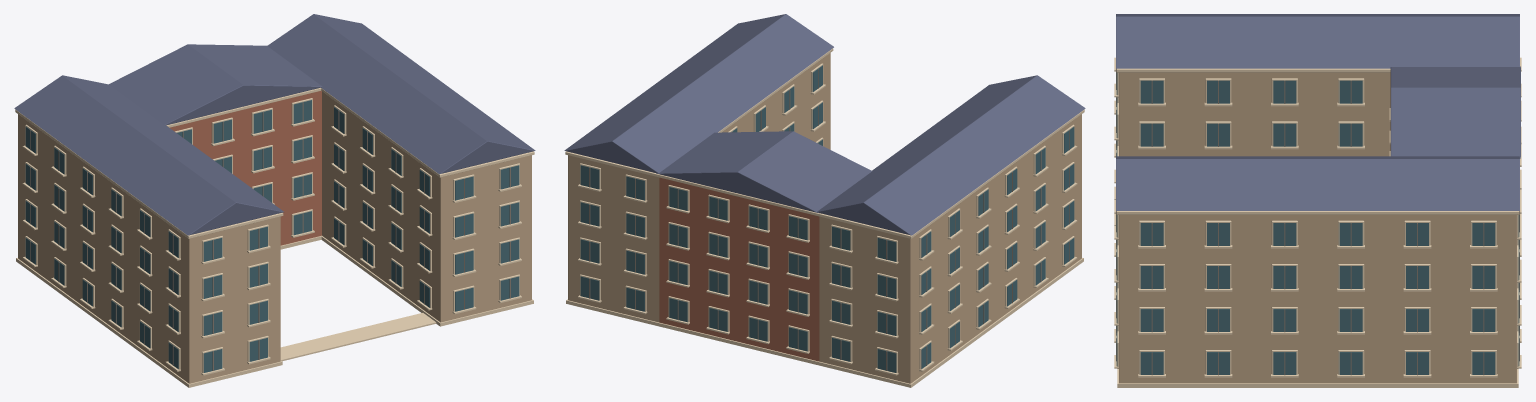
File: courtyard-apartment.glb
3 renders of one model, left to right at view 1: azimuth 30°, elevation 25°; view 2: azimuth 150°, elevation 25°; view 3: azimuth 270°, elevation 25°, orthographic. The views are drawn at different scales.
Parts seen in each view (by area): view 1: courtyard-apartment; view 2: courtyard-apartment; view 3: courtyard-apartment.
Part boxes in pixels (x1,y1,x2,y2): courtyard-apartment: (14, 14, 535, 387); courtyard-apartment: (564, 14, 1085, 387); courtyard-apartment: (1114, 14, 1521, 387).
Bounding box in the file's own units: 30.62 × 14.6 × 26.62.
